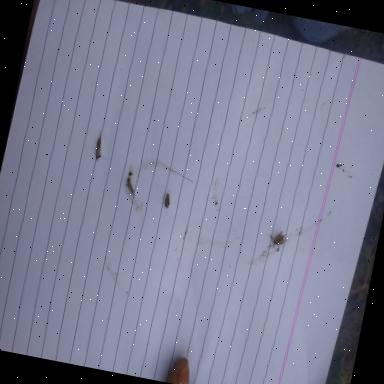pbw: (94, 130, 112, 160), (267, 228, 289, 250), (124, 178, 139, 196), (164, 190, 172, 208)
